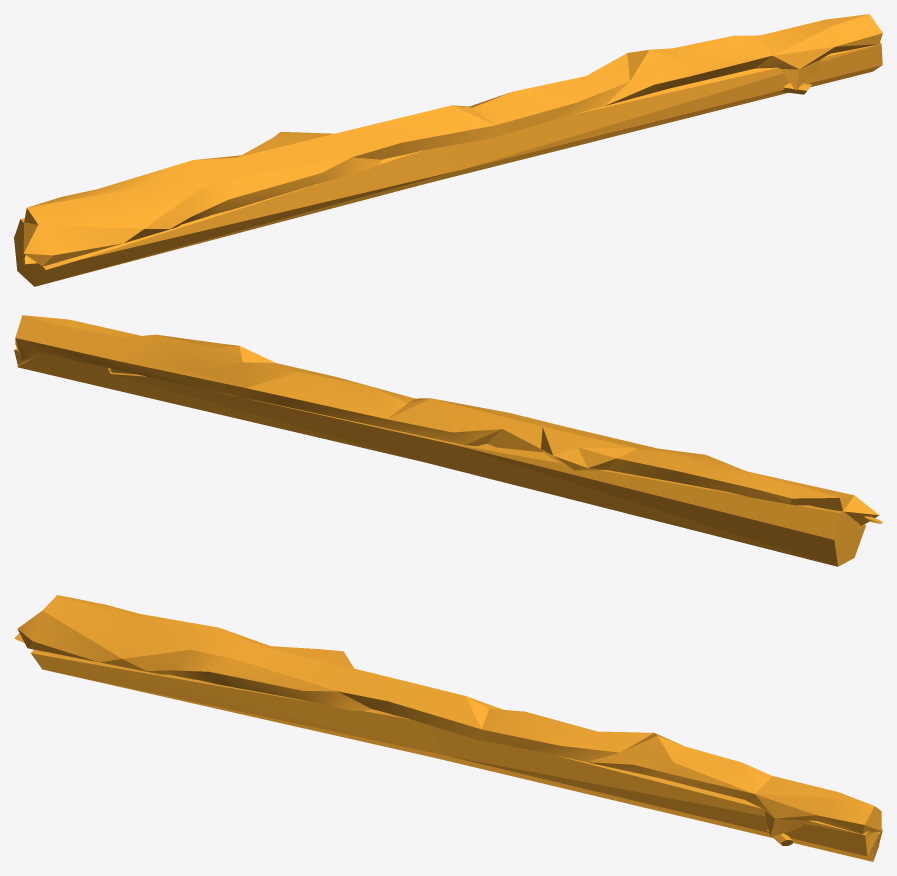
File: SM_Tree_Beech_Log_A_Snow.fbx
3 renders of one model, top to bottom at view 1: azimuth 30°, elevation 25°; view 2: azimuth 150°, elevation 25°; view 3: azimuth 330°, elevation 25°, orthographic. The views are drawn at different scales.
Visible parts, largest first — view 1: tree-beech-log-a-snow; view 2: tree-beech-log-a-snow; view 3: tree-beech-log-a-snow.
Part boxes in pixels (x1,y1,x2,y2): tree-beech-log-a-snow: (14,14,882,286); tree-beech-log-a-snow: (14,315,882,566); tree-beech-log-a-snow: (14,595,882,861).
Size of the model in its own units: 4.74 by 0.3989 by 0.455.
